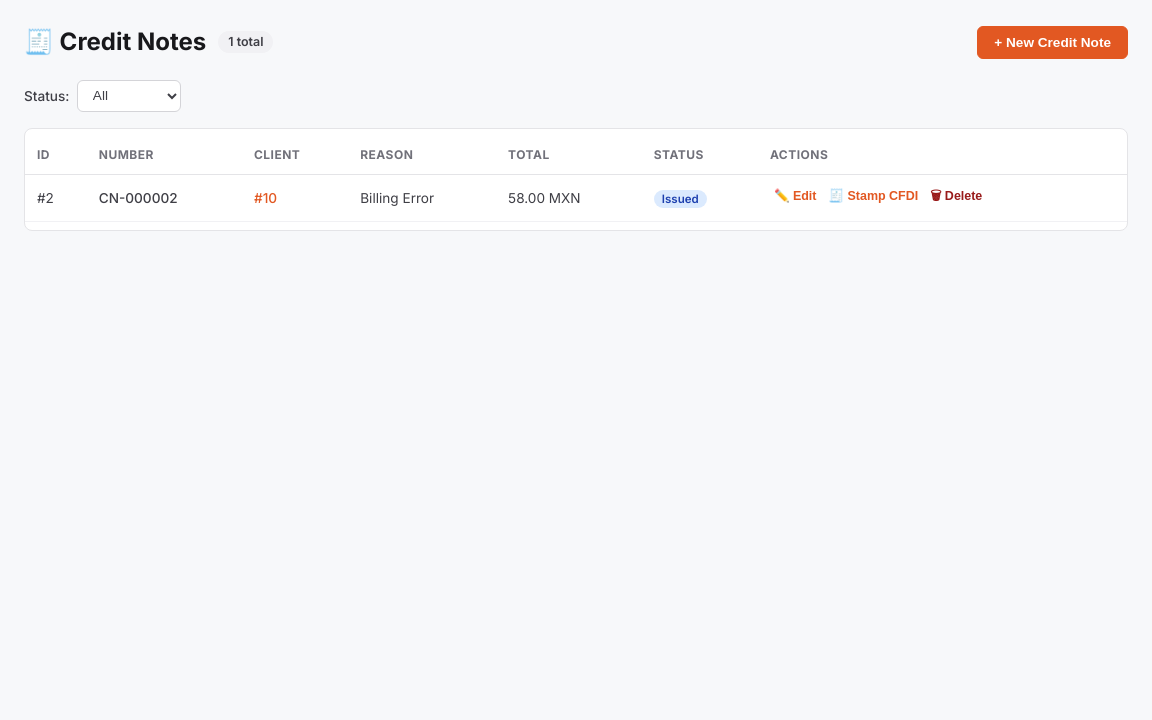
Test case: CreditNoteList page › stamps via POST /credit-notes/:id/stamp after confirmation and reports the UUID
Click the button "🧾 Stamp CFDI".
click(873, 196)  # box [824, 186, 922, 205]
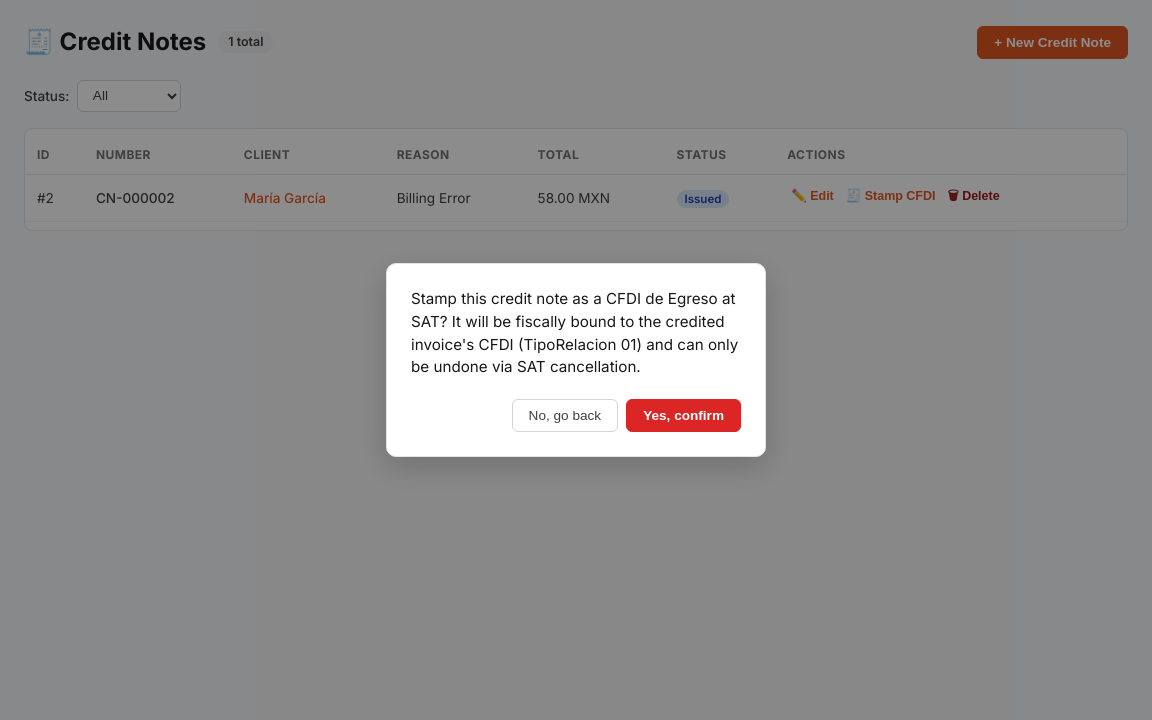
Expected: the button "Yes, confirm" is shown
Click the button "Yes, confirm".
click(684, 416)  # box [626, 399, 741, 432]
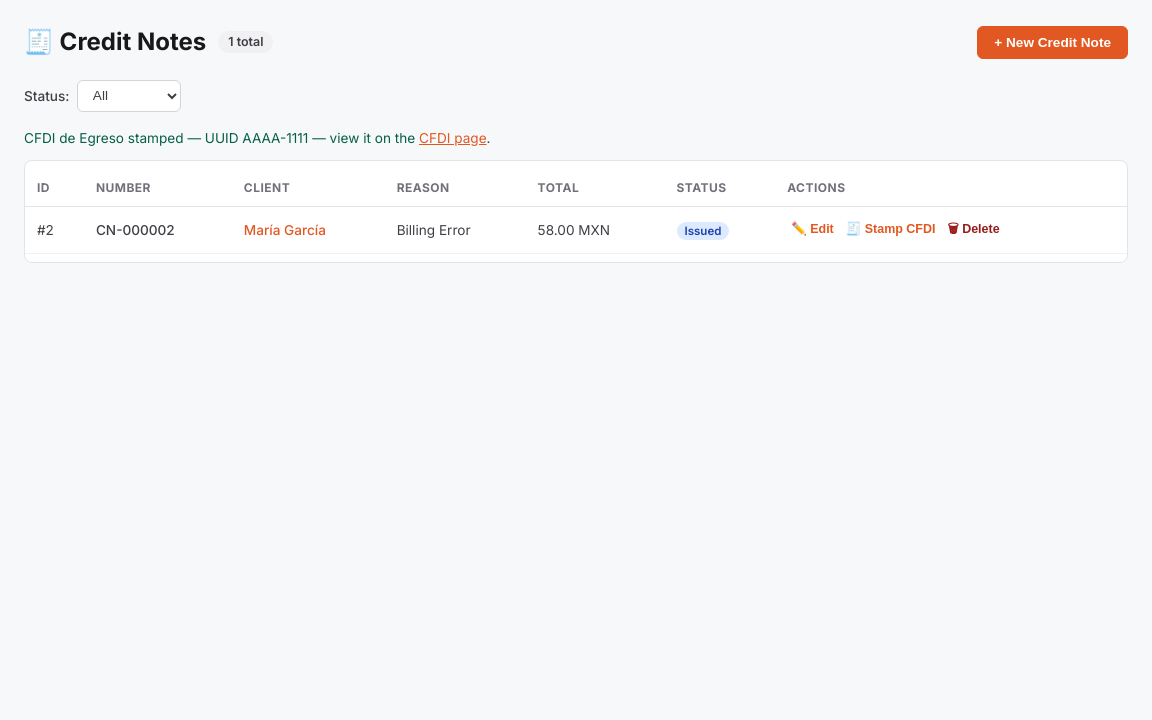
Expected: the text "UUID AAAA-1111" is shown, [24, 130, 308, 146]
